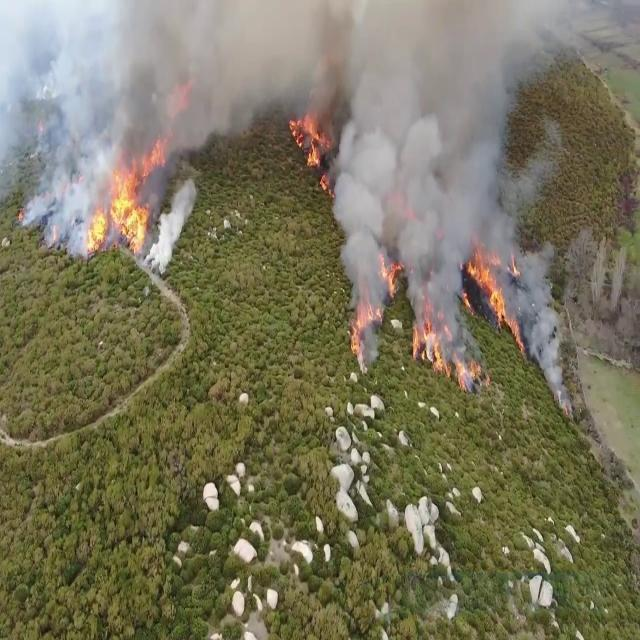Fire: (83, 158, 155, 260), (464, 242, 509, 330), (287, 103, 332, 182), (413, 305, 449, 377)
Smoke: (285, 0, 559, 348), (0, 0, 315, 222)
